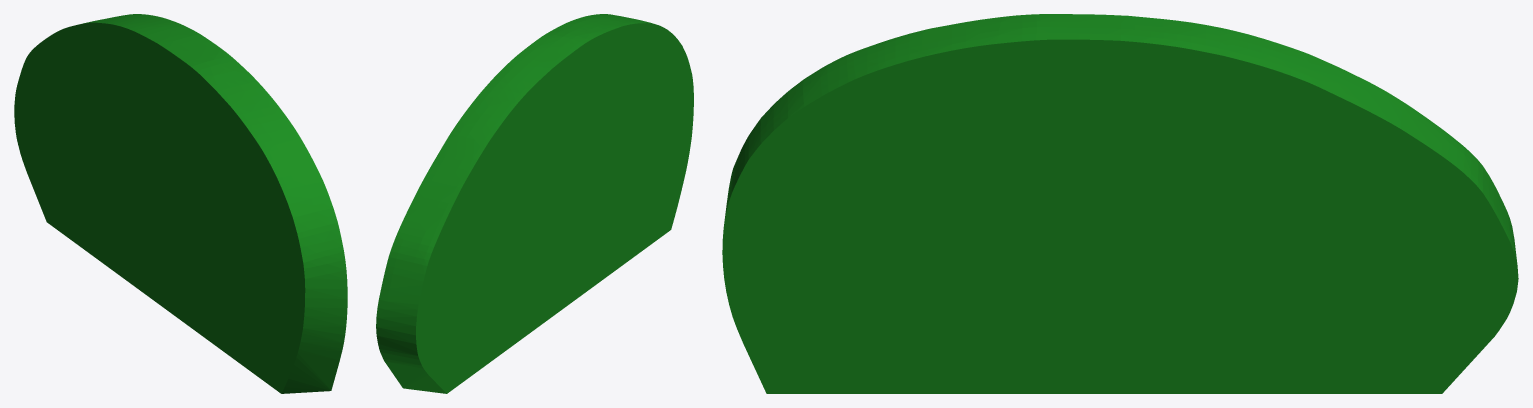
Rendered from convex_piece_8.obj.
3 renders of one model, left to right at view 1: azimuth 30°, elevation 25°; view 2: azimuth 150°, elevation 25°; view 3: azimuth 270°, elevation 25°, orthographic. The views are drawn at different scales.
Size of the model in its own units: 0.00564 by 0.0349 by 0.071.
